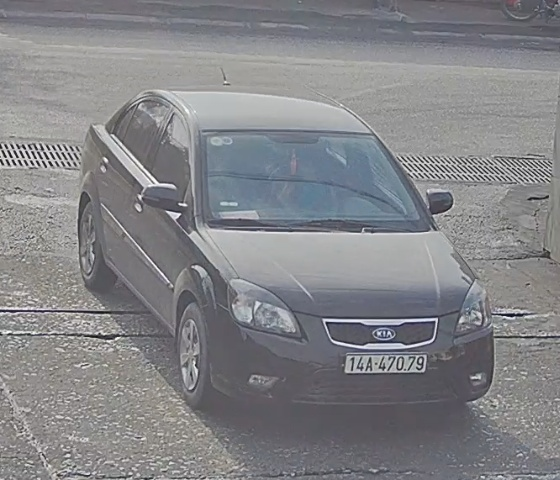vehicle plate: (342, 348, 427, 381)
